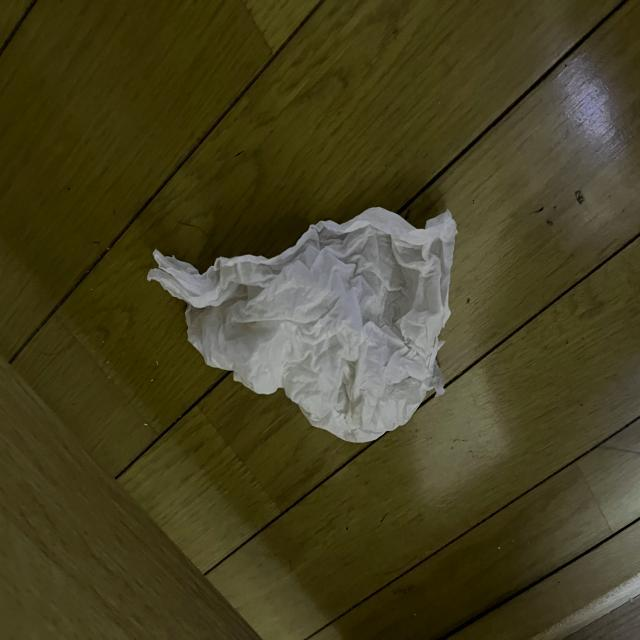Paper: (150, 180, 481, 454)
